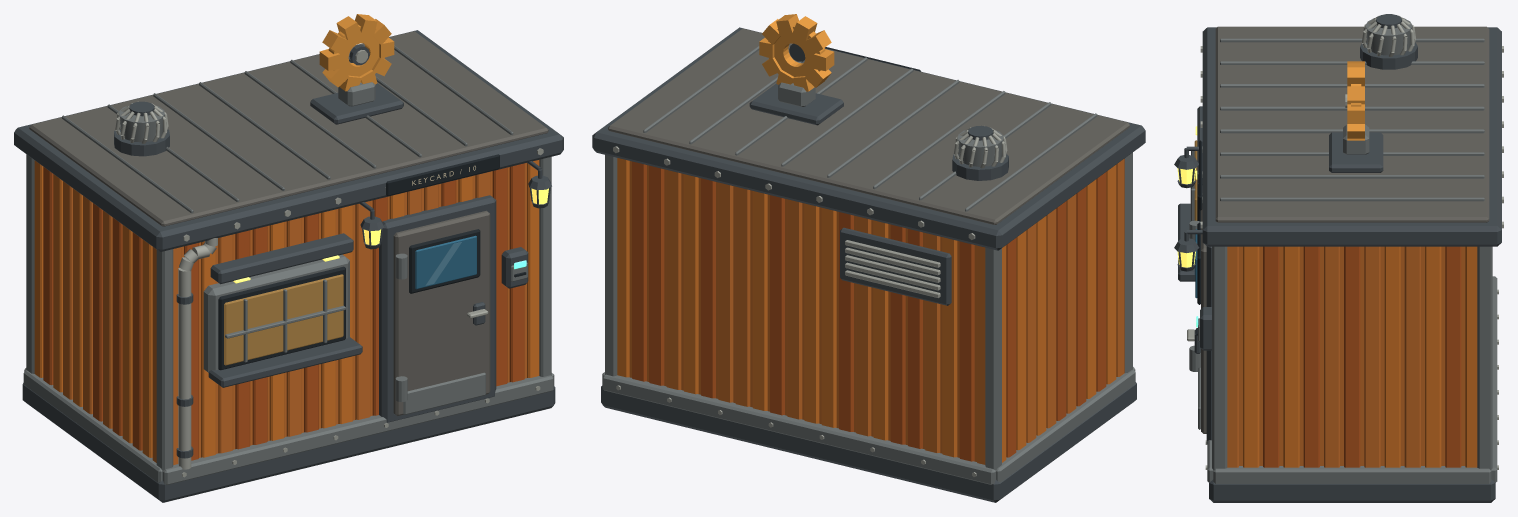
File: wsc-prop-065-keycard-shed.glb
3 renders of one model, left to right at view 1: azimuth 30°, elevation 25°; view 2: azimuth 150°, elevation 25°; view 3: azimuth 270°, elevation 25°, orthographic.
Parts seen in each view (by area): view 1: Warm counterweight gray, Graphite castwork, Braised gunmetal edges, Burnt orange shadow enamel, Ochre sun enamel, Safety enamel | burnt tangerine, Smoked service-window glass, Carbon gasket, Worn zinc fasteners, Amber baked enamel, Petrol blue glass; view 2: Warm counterweight gray, Safety enamel | burnt tangerine, Burnt orange shadow enamel, Ochre sun enamel, Graphite castwork, Braised gunmetal edges, Worn zinc fasteners, Amber baked enamel; view 3: Warm counterweight gray, Safety enamel | burnt tangerine, Graphite castwork, Braised gunmetal edges, Ochre sun enamel, Burnt orange shadow enamel, Worn zinc fasteners, Amber baked enamel, Carbon gasket, Warm frosted glass.
Part boxes in pixels (x1,y1,x2,y2): Warm counterweight gray: [29, 31, 548, 415]; Graphite castwork: [14, 30, 563, 502]; Braised gunmetal edges: [23, 45, 554, 484]; Burnt orange shadow enamel: [43, 163, 524, 460]; Ochre sun enamel: [34, 160, 539, 457]; Safety enamel | burnt tangerine: [63, 163, 526, 464]; Smoked service-window glass: [224, 274, 343, 365]; Carbon gasket: [218, 154, 526, 370]; Worn zinc fasteners: [115, 50, 543, 477]; Amber baked enamel: [319, 14, 394, 91]; Petrol blue glass: [415, 235, 476, 289]; Warm counterweight gray: [608, 28, 1129, 224]; Safety enamel | burnt tangerine: [629, 158, 1124, 464]; Burnt orange shadow enamel: [632, 161, 1106, 461]; Ochre sun enamel: [617, 158, 1116, 462]; Graphite castwork: [592, 27, 1145, 502]; Braised gunmetal edges: [602, 46, 1135, 484]; Worn zinc fasteners: [613, 127, 1007, 476]; Amber baked enamel: [759, 14, 834, 91]; Warm counterweight gray: [1201, 26, 1489, 433]; Safety enamel | burnt tangerine: [1227, 246, 1465, 467]; Graphite castwork: [1174, 14, 1501, 502]; Braised gunmetal edges: [1189, 18, 1497, 483]; Ochre sun enamel: [1243, 246, 1477, 467]; Burnt orange shadow enamel: [1263, 246, 1461, 467]; Worn zinc fasteners: [1187, 14, 1503, 469]; Amber baked enamel: [1347, 61, 1364, 140]; Carbon gasket: [1196, 140, 1202, 335]; Warm frosted glass: [1177, 126, 1197, 267].
Size of the model in its own units: 3.79 by 3.28 by 2.61.
